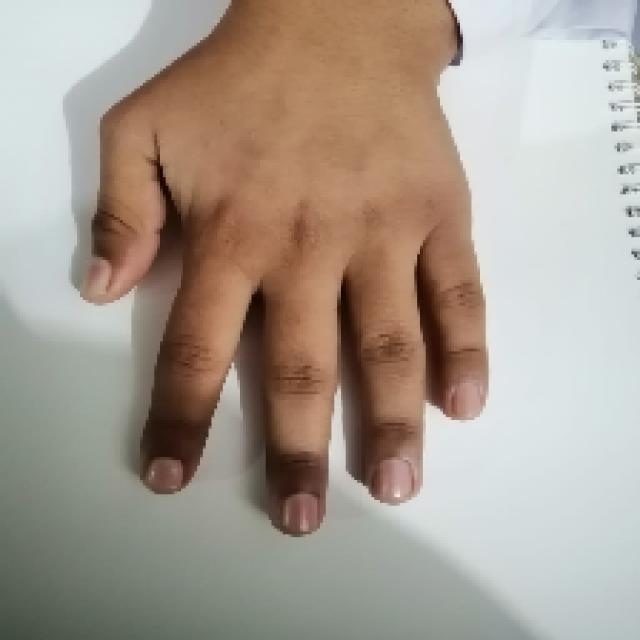Nail: (282, 492, 319, 531), (145, 458, 184, 494), (376, 461, 412, 498), (80, 258, 112, 295), (454, 381, 481, 419)
